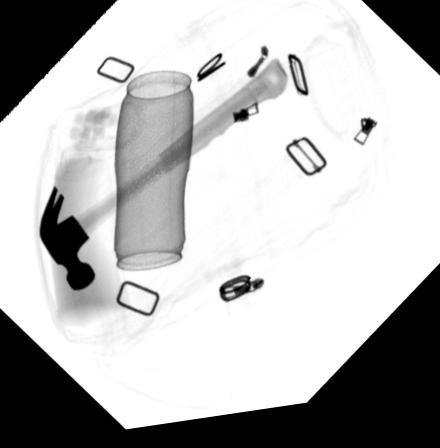Hammer: (36, 63, 289, 295)
